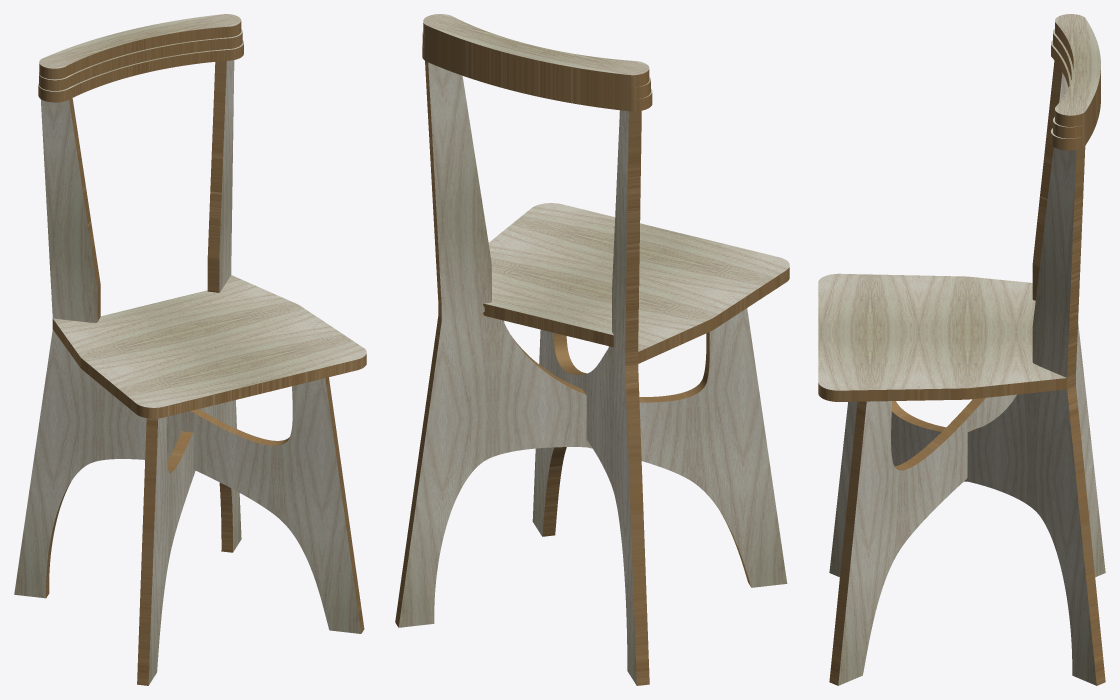
File: NODO_SILLA_CRUZ_KIRI_V2_RESPALDO_CORREGIDO.glb
3 views of the same model, side by side, from view 1: azimuth 30°, elevation 25°; view 2: azimuth 150°, elevation 25°; view 3: azimuth 270°, elevation 25° (orthographic). The views are drawn at different scales.
Visible parts, largest first — view 1: Lateral_2, Asiento, Lateral_1, Respaldo_3, Respaldo_1, Respaldo_2; view 2: Lateral_1, Asiento, Lateral_2, Respaldo_3, Respaldo_1, Respaldo_2; view 3: Lateral_1, Asiento, Lateral_2, Respaldo_3, Respaldo_1, Respaldo_2.
Boxes of the visible parts, <box> form: Lateral_2: <box>14,98,364,633</box>; Asiento: <box>52,275,366,418</box>; Lateral_1: <box>137,60,241,685</box>; Respaldo_3: <box>39,14,241,79</box>; Respaldo_1: <box>38,40,243,102</box>; Respaldo_2: <box>39,29,242,90</box>; Lateral_1: <box>395,61,787,627</box>; Asiento: <box>483,203,789,363</box>; Lateral_2: <box>532,110,649,685</box>; Respaldo_3: <box>423,14,649,87</box>; Respaldo_1: <box>422,43,652,111</box>; Respaldo_2: <box>422,31,650,99</box>; Lateral_1: <box>829,146,1105,685</box>; Asiento: <box>818,273,1066,401</box>; Lateral_2: <box>829,60,1105,685</box>; Respaldo_3: <box>1055,14,1100,126</box>; Respaldo_1: <box>1051,40,1100,150</box>; Respaldo_2: <box>1053,29,1100,138</box>.
Size of the model in its own units: 0.3971 by 0.8916 by 0.4127.
2 materials, 2 textured.
